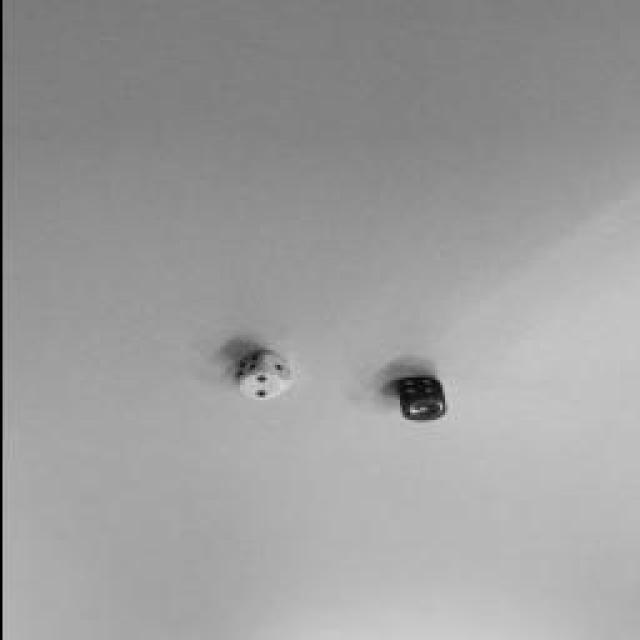dice_1: (401, 398, 444, 422)
dice_2: (238, 374, 282, 398)
